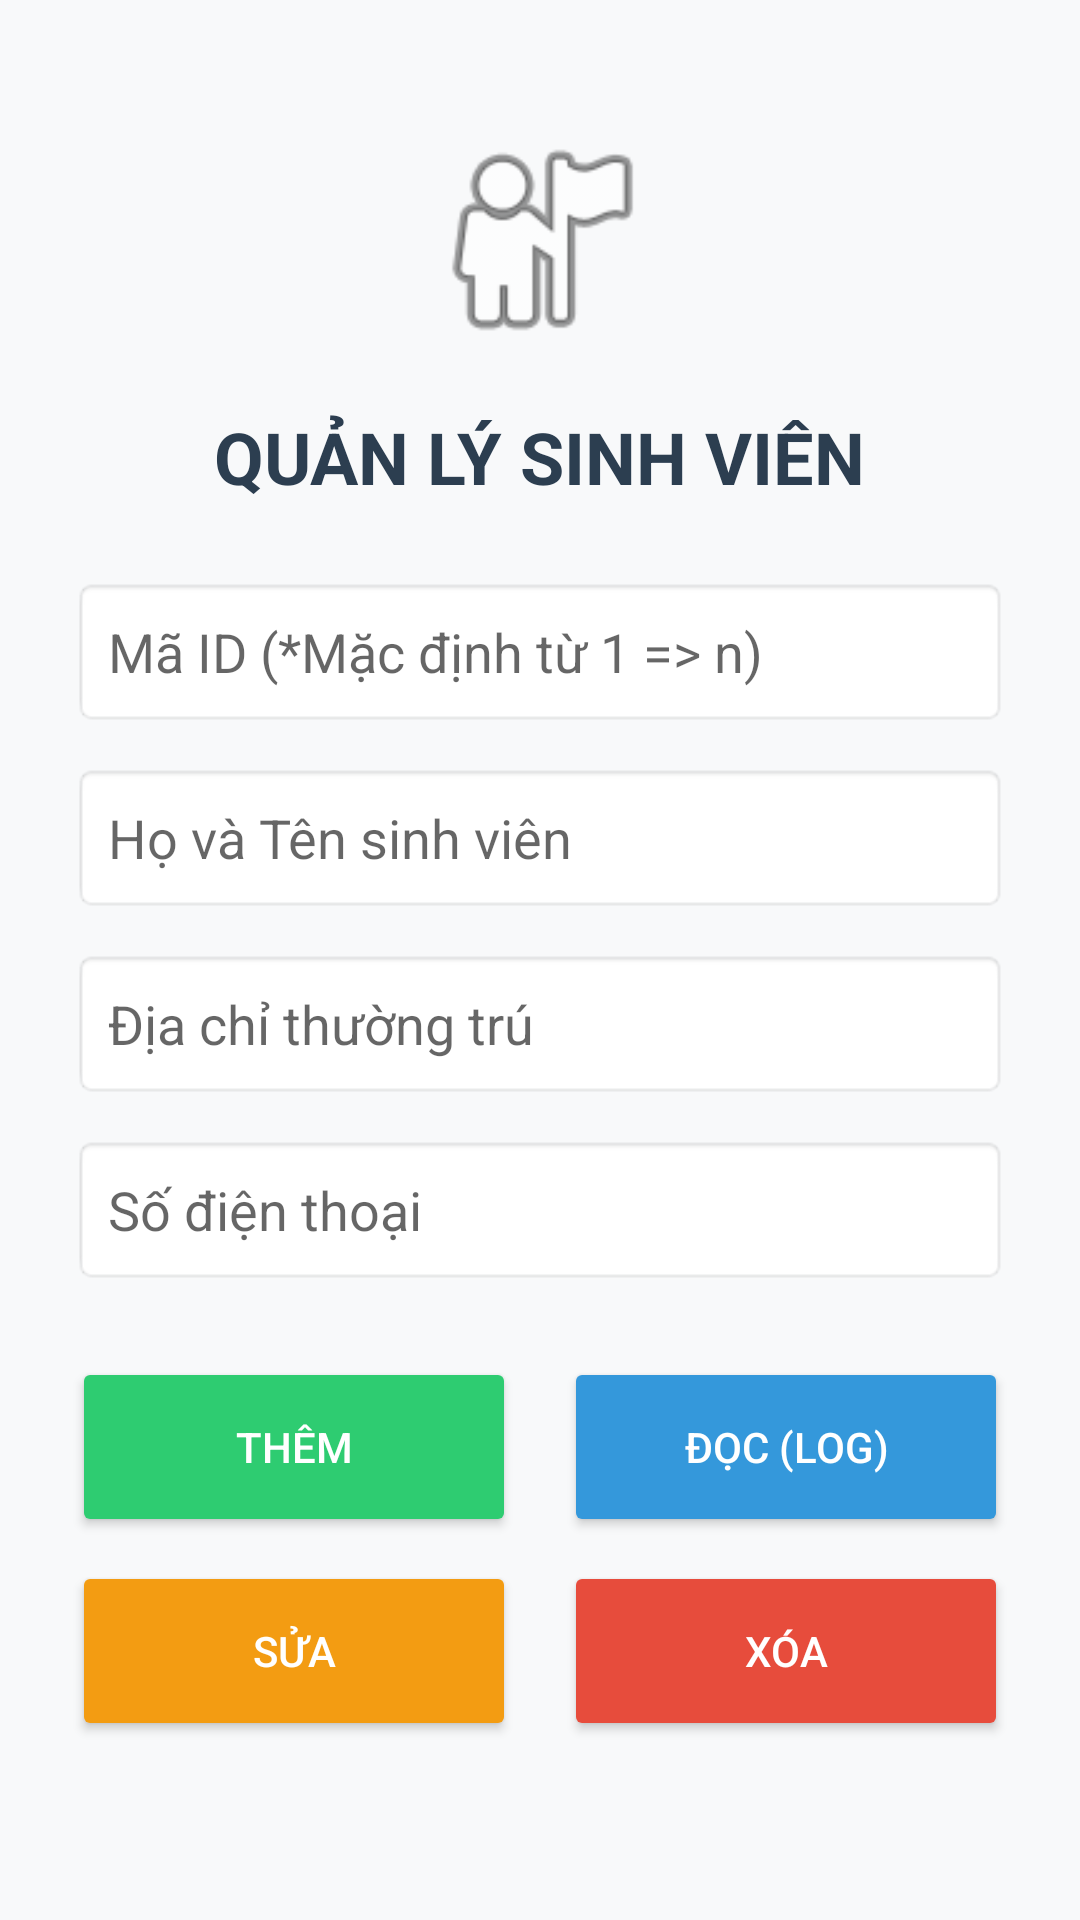

Screen size 1080w x 1920h. Icon name, then its box in pixels as [x1,y1,x2,y2]:
myplaces: [452,150,633,330]
